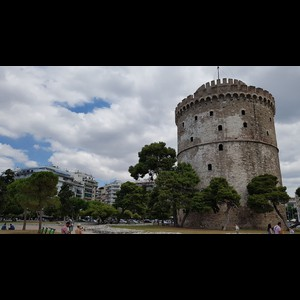White Tower: (170, 67, 290, 233)
